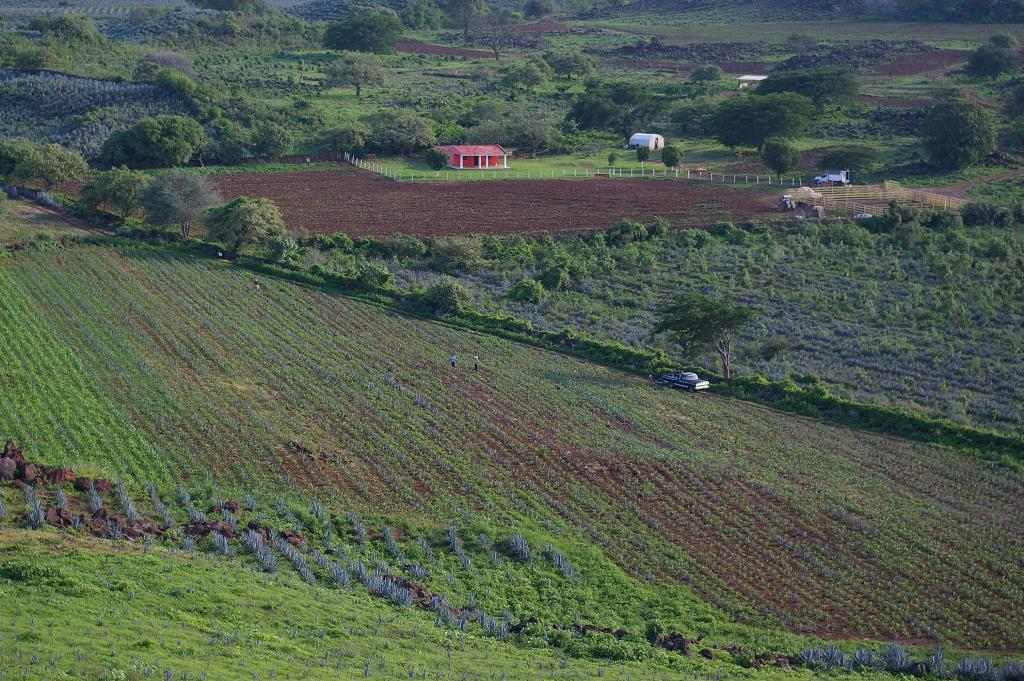Tree: (647, 285, 763, 375), (702, 92, 815, 156), (912, 94, 997, 172), (121, 110, 222, 174), (202, 194, 288, 265), (136, 169, 216, 245), (7, 140, 90, 201), (72, 161, 146, 229), (758, 68, 862, 115), (154, 70, 230, 130), (462, 5, 523, 63), (321, 14, 400, 57), (322, 51, 387, 99), (384, 105, 435, 158), (965, 40, 1016, 82), (820, 146, 878, 182), (512, 116, 561, 158), (501, 58, 551, 98), (564, 93, 622, 127), (757, 140, 805, 181), (99, 124, 140, 170), (419, 280, 474, 312), (336, 116, 375, 161), (252, 121, 296, 158), (0, 137, 36, 182), (547, 46, 594, 80), (443, 0, 487, 35), (456, 119, 506, 149), (350, 263, 391, 296), (684, 61, 723, 86), (437, 122, 469, 148), (520, 0, 556, 20), (986, 32, 1017, 51)
